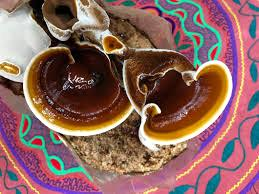Ganoderma - Fruit Body: (126, 47, 234, 145), (22, 44, 125, 137), (37, 0, 107, 40)
